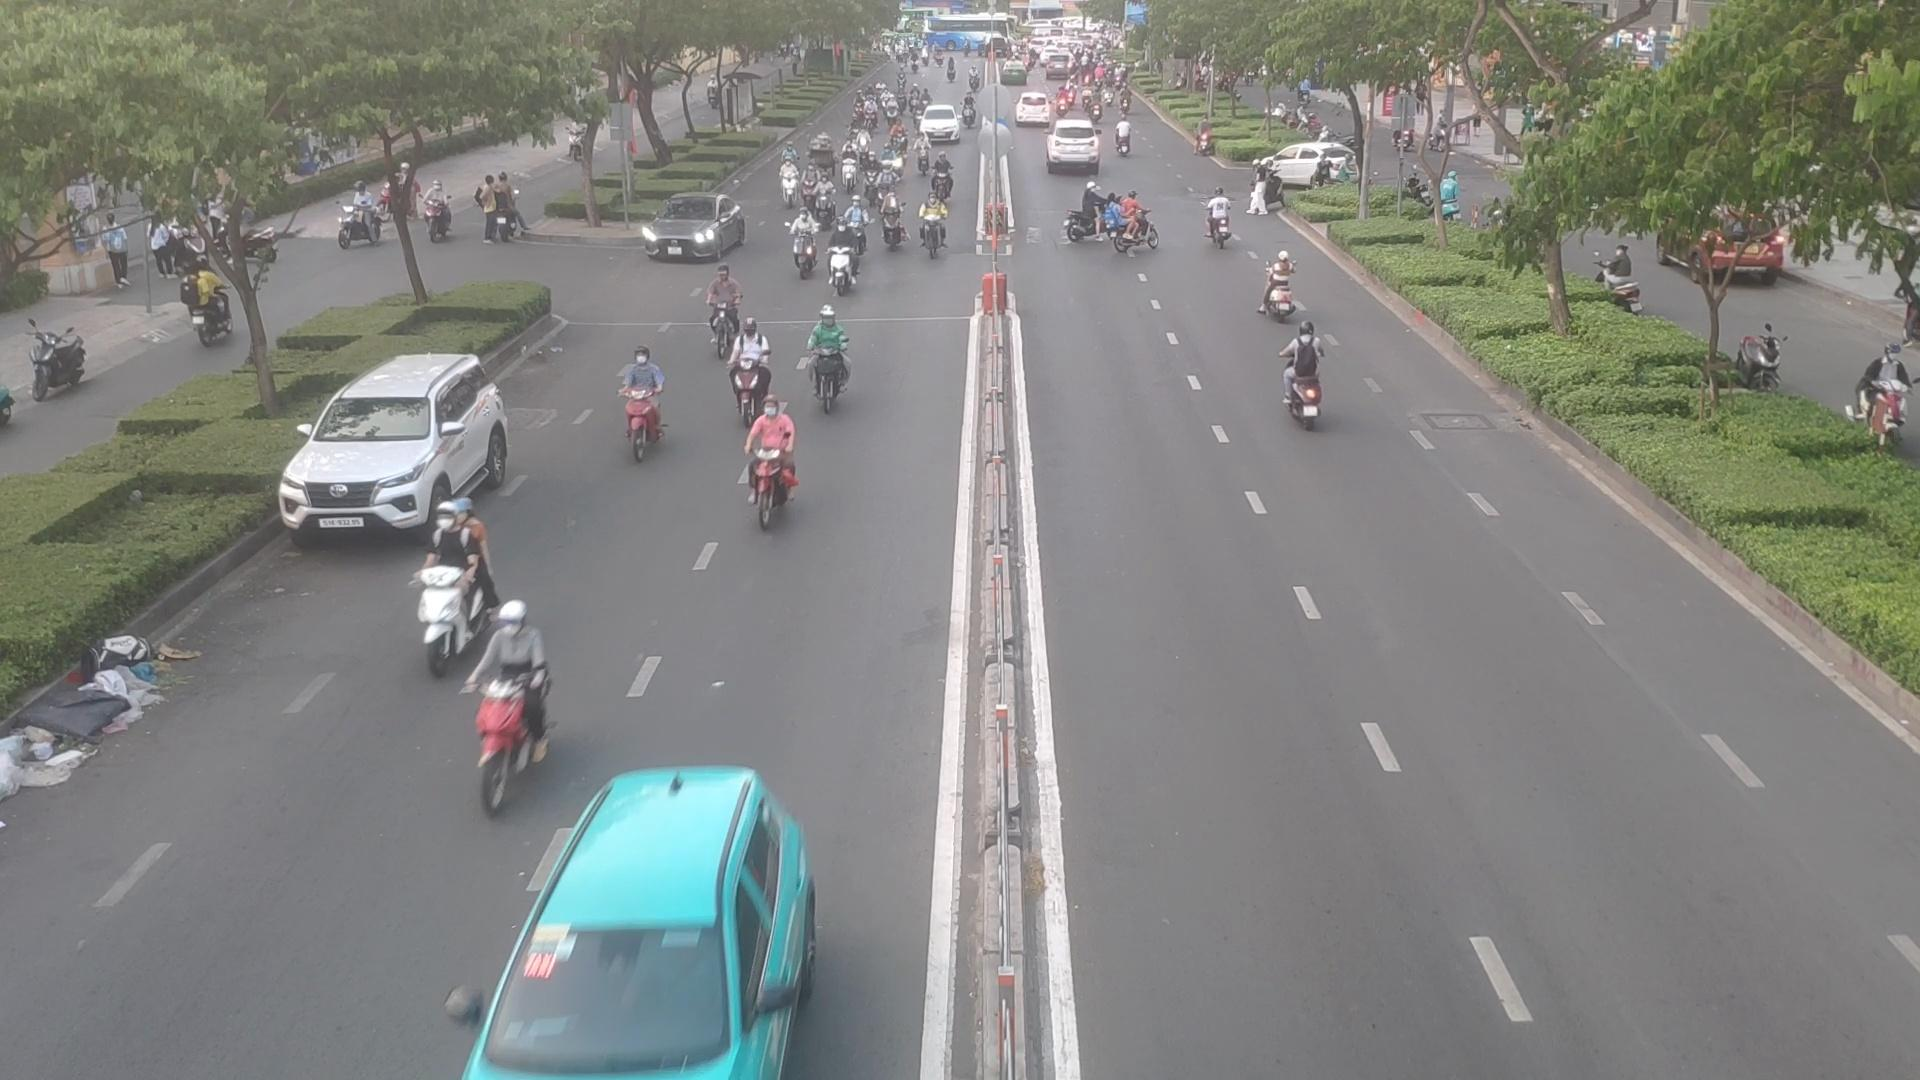car: (491, 773, 818, 1080), (280, 353, 514, 547), (637, 194, 746, 261), (1258, 142, 1360, 189), (1048, 123, 1101, 177), (920, 105, 963, 138)
motorbike: (447, 591, 553, 822), (396, 491, 492, 673), (629, 344, 675, 475), (806, 281, 848, 415), (1280, 324, 1327, 435), (742, 402, 782, 516), (1110, 193, 1163, 251), (705, 265, 738, 357), (1060, 183, 1106, 241), (737, 319, 761, 414), (1265, 233, 1291, 309), (829, 222, 855, 291), (789, 212, 814, 276), (844, 196, 872, 252), (920, 195, 943, 260), (884, 193, 905, 252), (814, 173, 833, 228), (796, 166, 819, 211), (931, 157, 953, 199), (1109, 120, 1135, 156), (777, 161, 796, 207), (1208, 189, 1225, 241), (862, 156, 882, 200), (913, 135, 928, 173), (843, 146, 856, 181), (857, 131, 872, 156), (884, 138, 891, 167)
